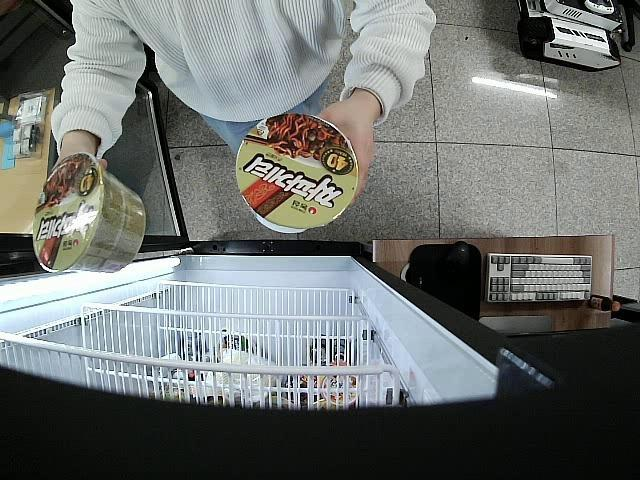03_chapagetti_L: (234, 114, 358, 234), (35, 153, 146, 276)
